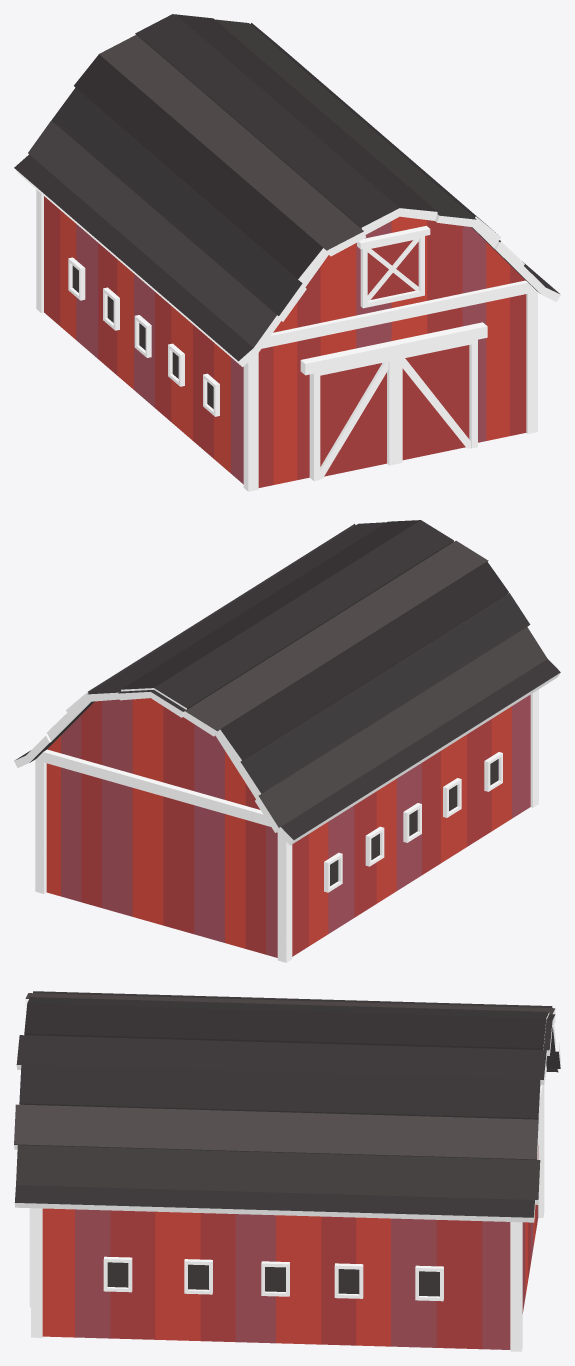
Rendered from village_town_barn.glb.
The picture shows the model from 3 angles, top to bottom: view 1: azimuth 30°, elevation 25°; view 2: azimuth 150°, elevation 25°; view 3: azimuth 270°, elevation 25°; orthographic projection. The views are drawn at different scales.
Parts seen in each view (by area): view 1: Barn.001_Material.005_0; view 2: Barn.001_Material.005_0; view 3: Barn.001_Material.005_0.
Part boxes in pixels (x1,y1,x2,y2): Barn.001_Material.005_0: [14, 14, 560, 491]; Barn.001_Material.005_0: [14, 520, 560, 962]; Barn.001_Material.005_0: [14, 991, 560, 1351].
Size of the model in its own units: 6.34 by 4.62 by 8.65.
1 material, 1 textured.
